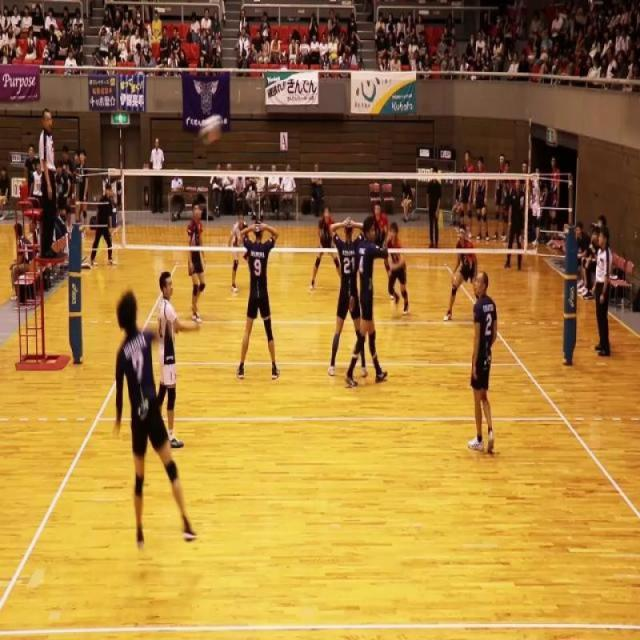volleyball: (198, 112, 223, 145)
